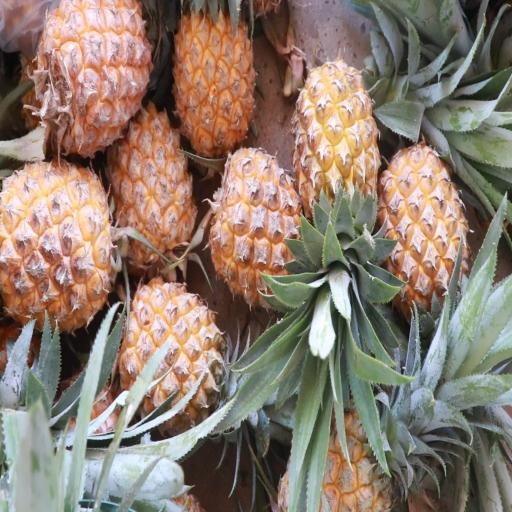Pineapple - v8 v1: (0, 150, 129, 333), (32, 0, 155, 163), (113, 274, 228, 432), (287, 58, 379, 255), (375, 139, 469, 326), (208, 144, 310, 313), (107, 102, 197, 279), (170, 0, 256, 173)
